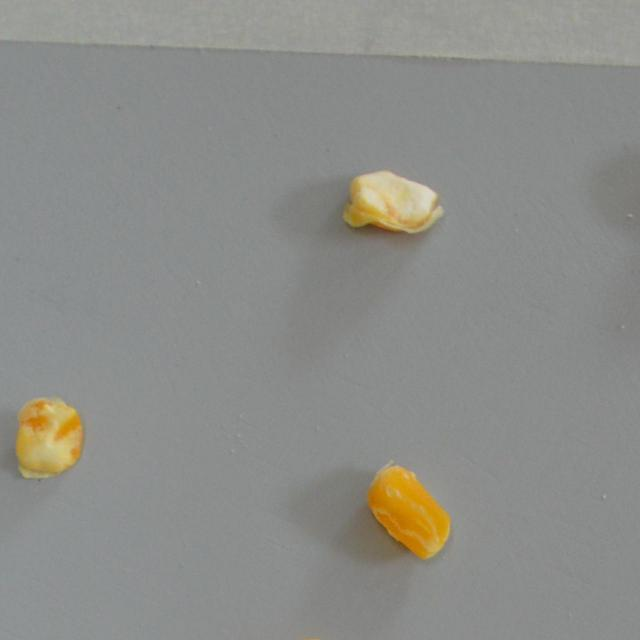pelicula: (364, 461, 452, 559), (342, 169, 443, 238), (10, 395, 84, 480)
